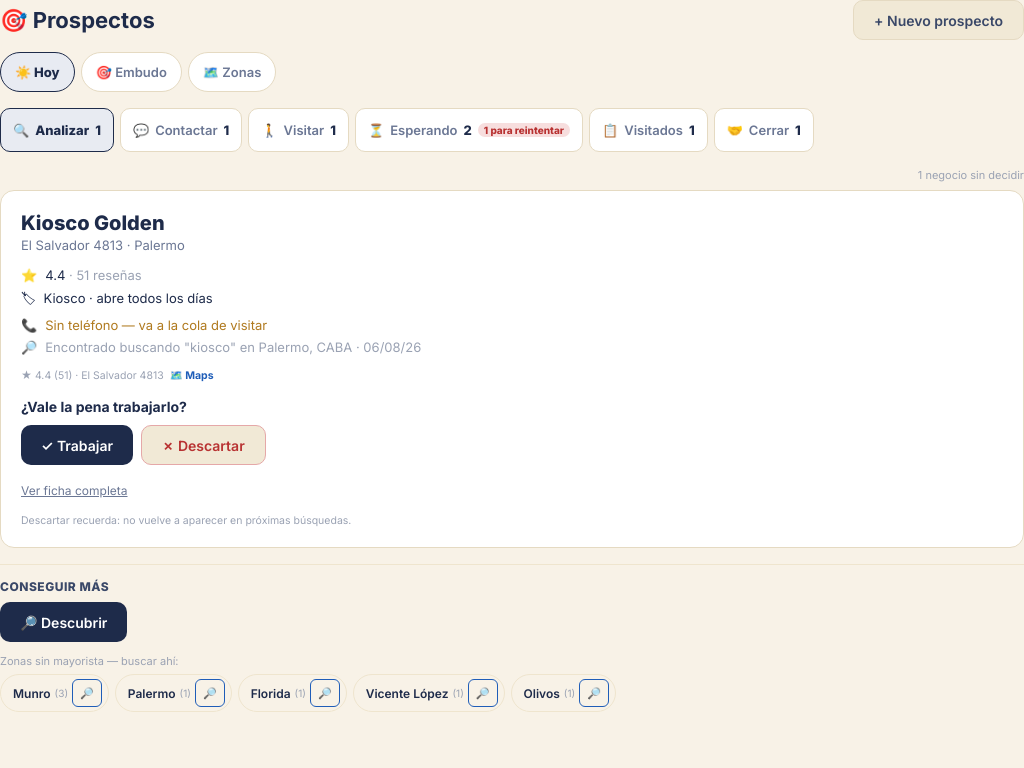
Test: Prospectos — Ficha: el expediente permanente › secciones completas: datos con tel:, diagnóstico, calificación con autoría, actividad
The width and height of the screenshot is (1024, 768).
Step 1. Click the button "📋 Visitados 1" → x=648, y=130, box [589, 108, 708, 152]
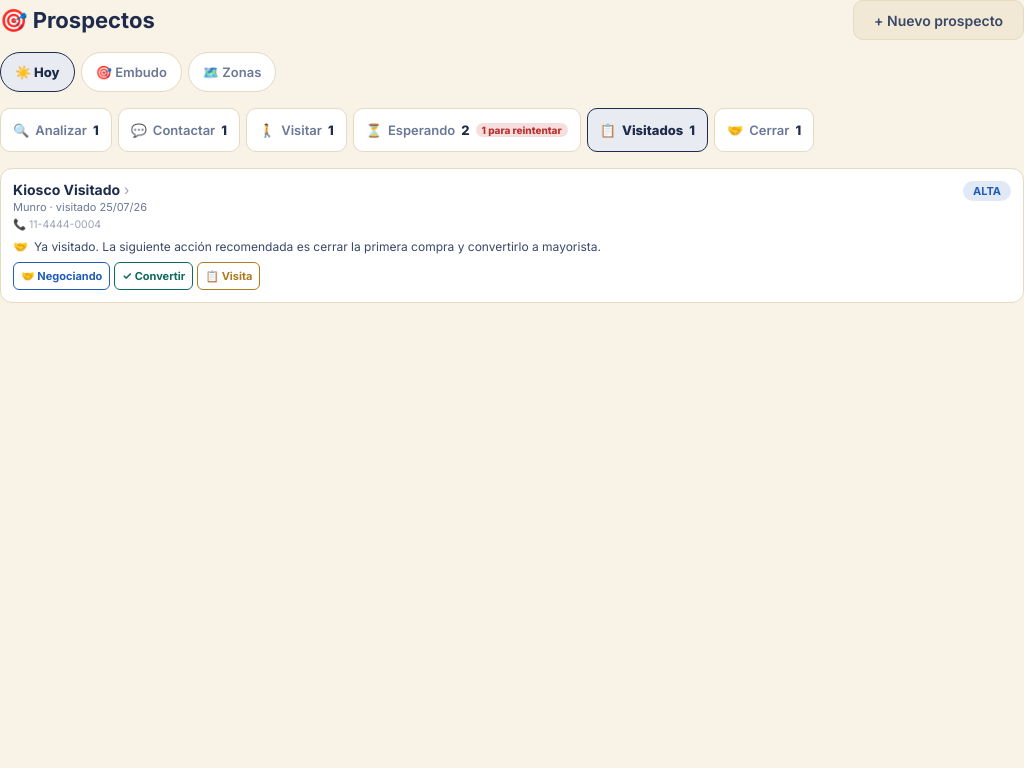
Step 2. Click the text "Kiosco Visitado ›" → x=71, y=190, box [13, 181, 130, 198]
(page scrolled)
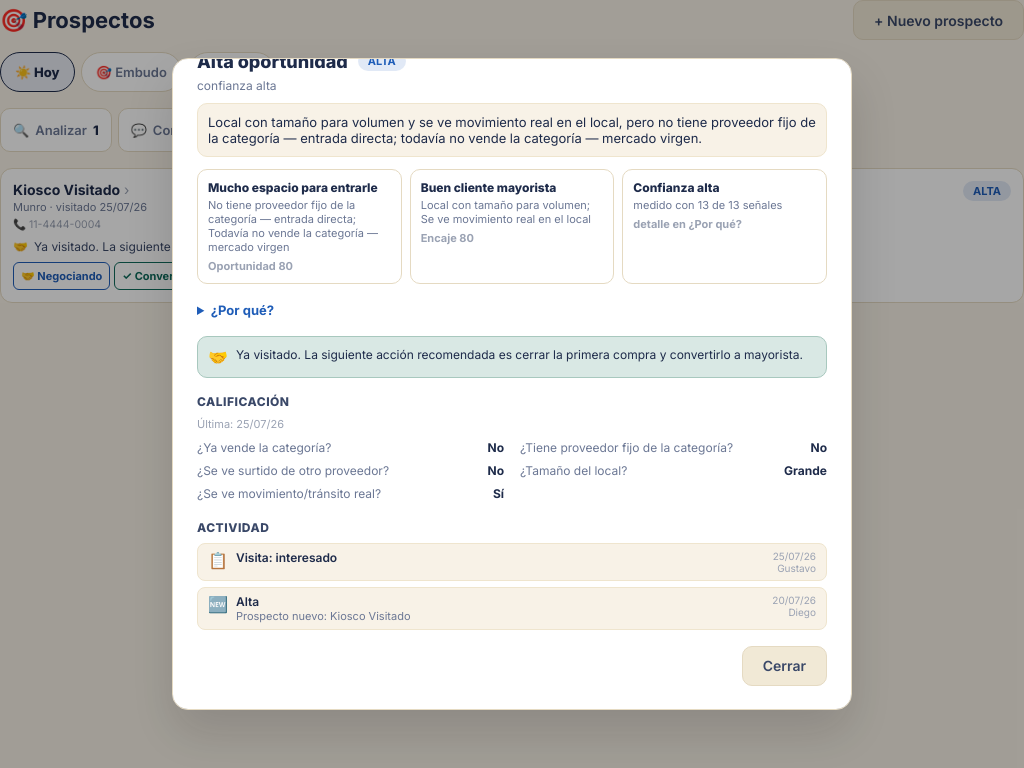
Expected: the heading "¿Por qué?" is shown, [211, 302, 274, 318]
Expected: the text "Última: 25/07/26" is shown, [197, 417, 284, 431]
Expected: the text "Visita: interesado" is shown, [236, 550, 337, 565]
